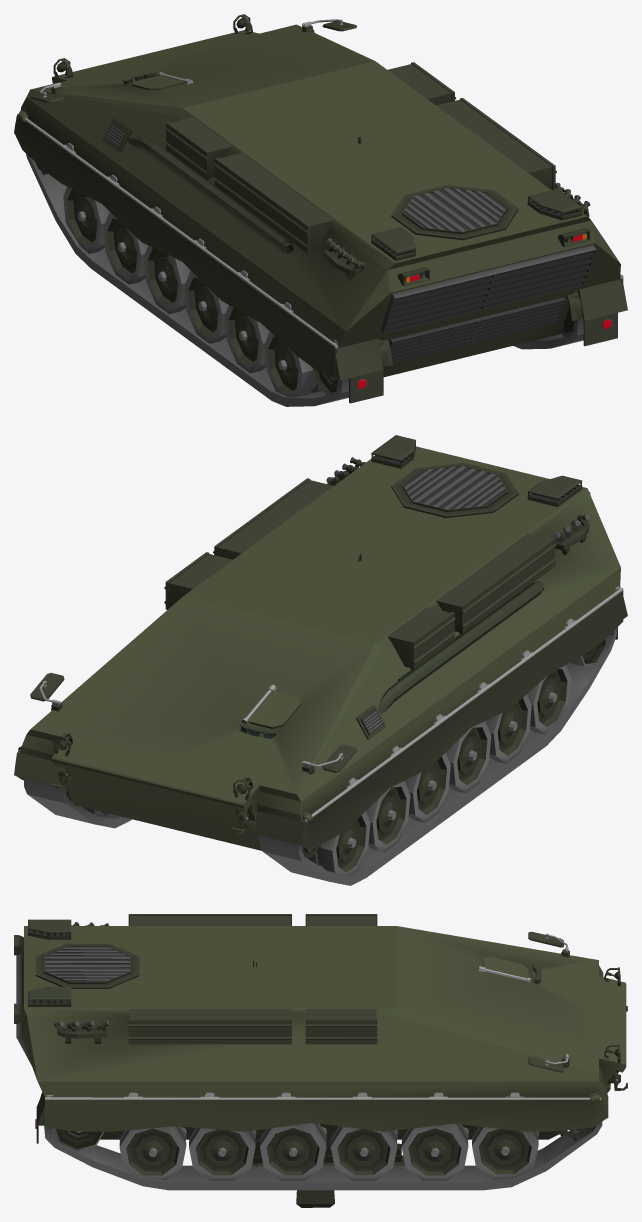
Rendered from roland.glb.
The picture shows the model from 3 angles, top to bottom: view 1: azimuth 30°, elevation 25°; view 2: azimuth 150°, elevation 25°; view 3: azimuth 270°, elevation 25°; orthographic projection. The views are drawn at different scales.
Parts seen in each view (by area): view 1: body|Material, body|Material.001, body|Material.004, body|material_0, body|Material.007, body|Material.011, body|Material.008; view 2: body|Material, body|Material.001, body|Material.007, body|Material.011, body|Material.004, body|Material.008, body|material_0; view 3: body|Material, body|Material.001, body|Material.007, body|Material.011, body|Material.004, body|Material.008, body|material_0, cradle|Material.001.
Boxes of the visible parts, x1,y1,x2,y2 form: body|Material: [18, 24, 623, 377]; body|Material.001: [14, 14, 627, 403]; body|Material.004: [105, 124, 612, 389]; body|material_0: [104, 123, 594, 362]; body|Material.007: [26, 154, 583, 406]; body|Material.011: [63, 186, 574, 396]; body|Material.008: [18, 19, 623, 348]; body|Material: [14, 446, 620, 850]; body|Material.001: [30, 435, 627, 872]; body|Material.007: [24, 628, 616, 885]; body|Material.011: [82, 638, 607, 875]; body|Material.004: [326, 454, 590, 732]; body|Material.008: [18, 586, 623, 822]; body|material_0: [362, 455, 575, 733]; body|Material: [21, 926, 627, 1139]; body|Material.001: [14, 914, 620, 1175]; body|Material.007: [44, 1122, 602, 1190]; body|Material.011: [54, 1123, 538, 1180]; body|Material.004: [16, 922, 129, 1128]; body|Material.008: [45, 933, 619, 1137]; body|material_0: [32, 930, 129, 1002]; cradle|Material.001: [252, 1139, 401, 1207].
Bounding box in the file's own units: 3.57 × 2.77 × 6.99.
